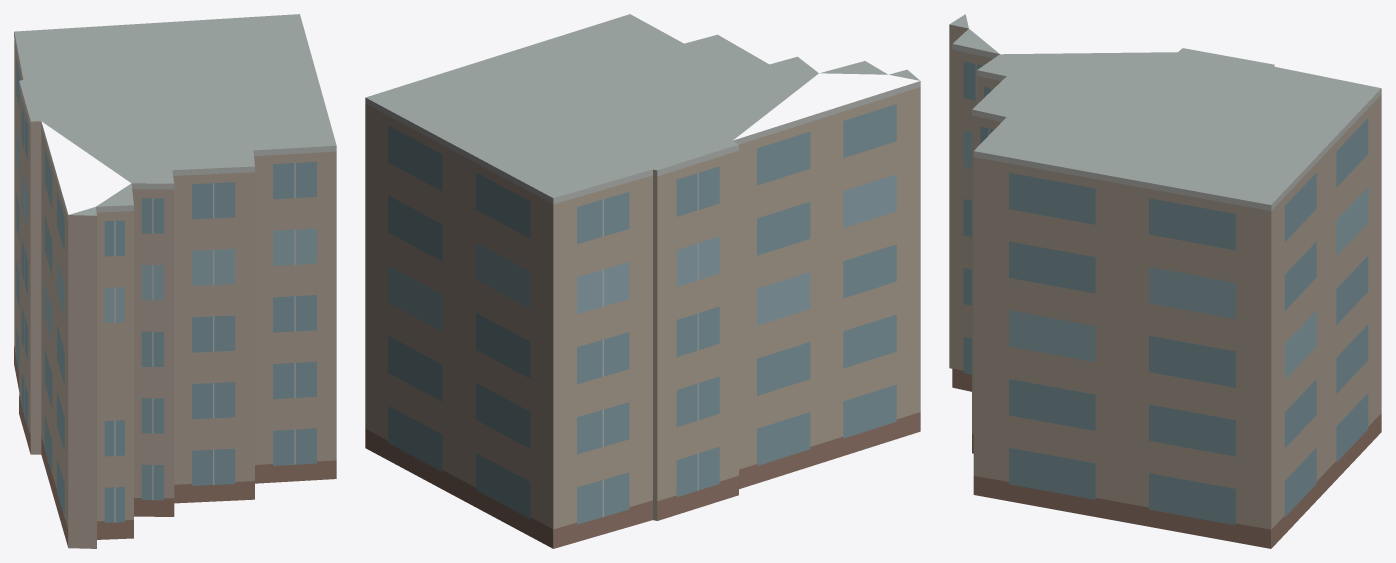
File: survey-upis-32567537.glb
3 views of the same model, side by side, from view 1: azimuth 30°, elevation 25°; view 2: azimuth 150°, elevation 25°; view 3: azimuth 270°, elevation 25° (orthographic). The views are drawn at different scales.
Parts seen in each view (by area): view 1: survey-upis-32567537.tmp; view 2: survey-upis-32567537.tmp; view 3: survey-upis-32567537.tmp.
Boxes of the visible parts, box(x1,y1,x2,y2) form: survey-upis-32567537.tmp: box(14, 14, 336, 548); survey-upis-32567537.tmp: box(365, 14, 920, 548); survey-upis-32567537.tmp: box(949, 14, 1381, 548).
Bounding box in the file's own units: 16.82 × 14.1 × 16.08.
